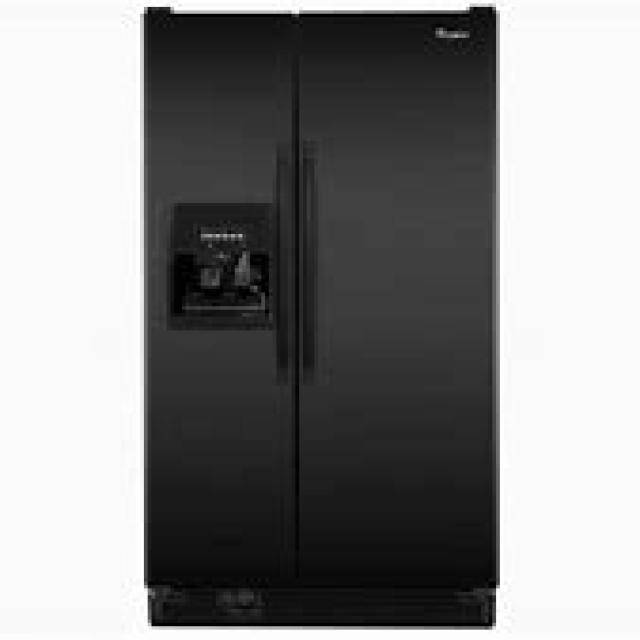fridge: (140, 4, 500, 626)
